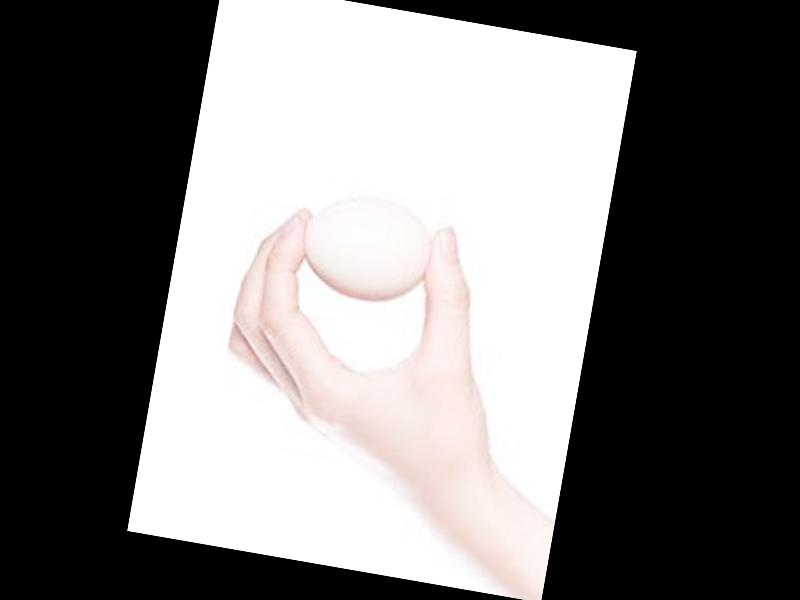Eggs: (294, 186, 439, 310)
